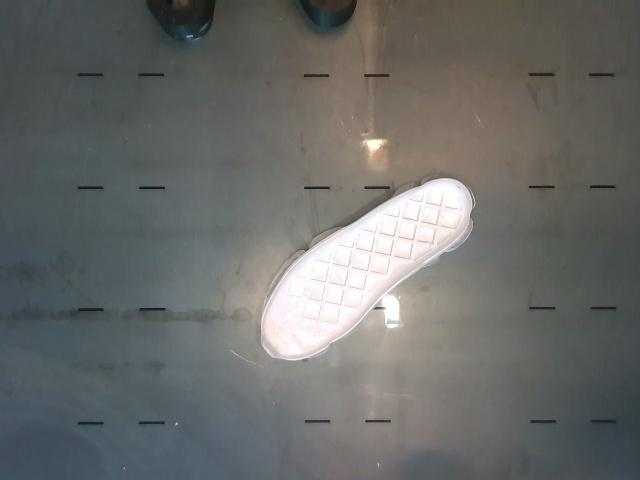shoes: (262, 180, 471, 358)
